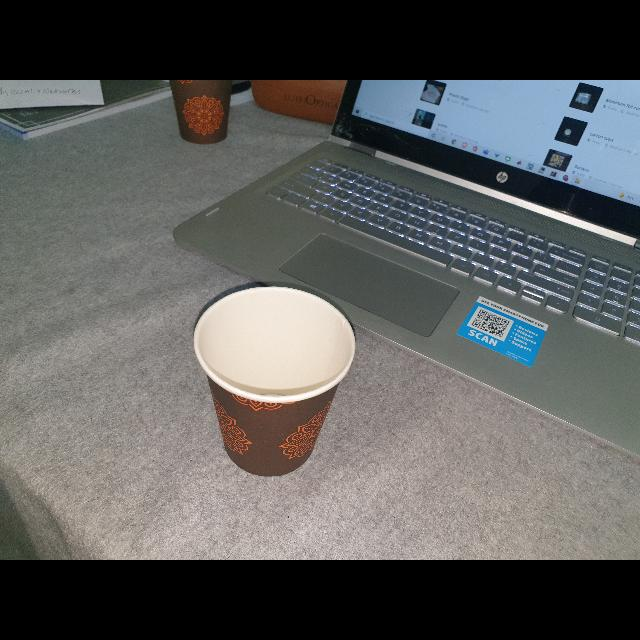trash: (186, 278, 360, 480)
